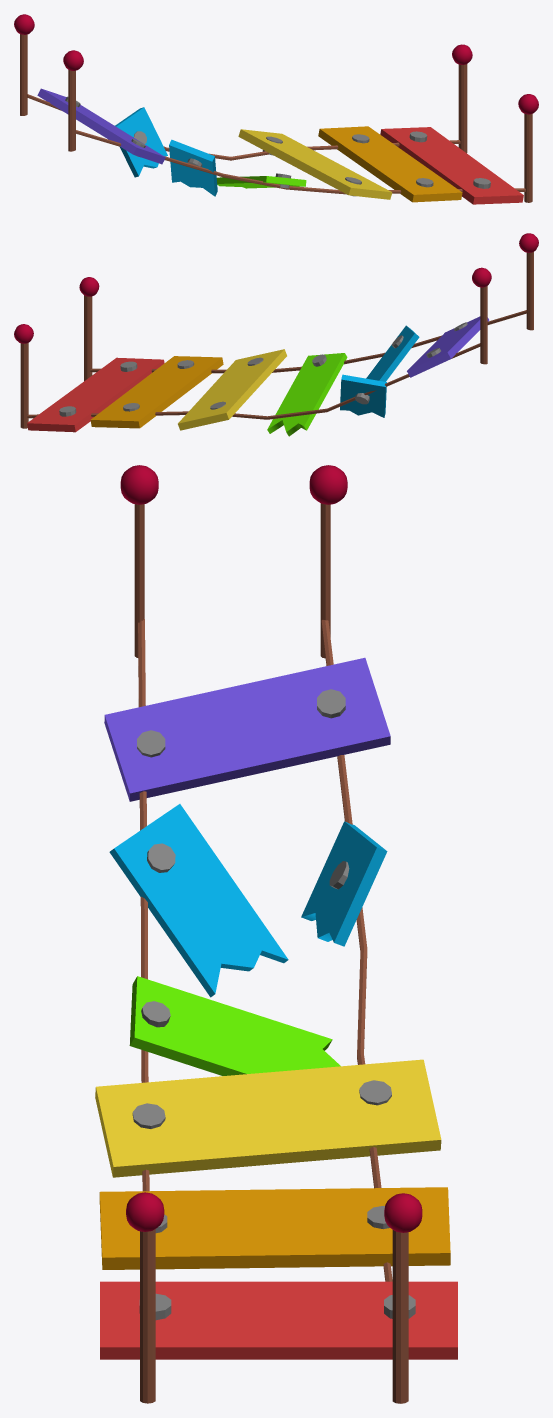
The model's file is BRUG.fbx.
3 renders of one model, top to bottom at view 1: azimuth 30°, elevation 25°; view 2: azimuth 150°, elevation 25°; view 3: azimuth 270°, elevation 25°, orthographic. The views are drawn at different scales.
Parts seen in each view (by area): view 1: pCube2, pCube1, pCube4 (×3), pCube3, pCylinder1, pCube5, pCylinder2, pCylinder13, pCylinder12, pSphere1, pSphere2, pSphere4 (+1 smaller); view 2: pCube4 (×3), pCube2, pCube1, pCube3, pCylinder2, pCube5, pCylinder1, pCylinder13, pCylinder12, pSphere2, pSphere4, pSphere1 (+1 smaller); view 3: pCube4 (×3), pCube3, pCube1, pCube2, pCube5, pCylinder2, pCylinder1, pCylinder13, pCylinder12, pSphere3, pSphere1, pSphere2 (+1 smaller).
Boxes of the visible parts, <box> form: pCube2: <box>318,126,462,202</box>; pCube1: <box>380,127,523,204</box>; pCube4 (×3): <box>115,107,306,196</box>; pCube3: <box>238,129,392,199</box>; pCylinder1: <box>76,113,532,202</box>; pCube5: <box>37,88,165,164</box>; pCylinder2: <box>27,64,467,160</box>; pCylinder13: <box>20,34,27,115</box>; pCylinder12: <box>68,70,75,151</box>; pSphere1: <box>518,94,538,114</box>; pSphere2: <box>452,44,472,64</box>; pSphere4: <box>14,14,34,34</box>; pCube4 (×3): <box>267,325,419,436</box>; pCube2: <box>90,356,223,428</box>; pCube1: <box>27,357,164,432</box>; pCube3: <box>178,349,286,430</box>; pCylinder2: <box>20,343,480,428</box>; pCube5: <box>407,316,489,377</box>; pCylinder1: <box>84,295,527,380</box>; pCylinder13: <box>480,286,487,364</box>; pCylinder12: <box>526,252,533,330</box>; pSphere2: <box>14,324,33,343</box>; pSphere4: <box>472,267,491,287</box>; pSphere1: <box>79,277,99,296</box>; pCube4 (×3): <box>109,804,387,1075</box>; pCube3: <box>95,1059,441,1177</box>; pCube1: <box>100,1281,457,1359</box>; pCube2: <box>99,1187,450,1269</box>; pCube5: <box>104,657,390,801</box>; pCylinder2: <box>321,620,408,1403</box>; pCylinder1: <box>138,619,155,1403</box>; pCylinder13: <box>320,503,330,658</box>; pCylinder12: <box>134,504,144,657</box>; pSphere3: <box>120,465,158,504</box>; pSphere1: <box>126,1192,164,1231</box>; pSphere2: <box>384,1193,422,1232</box>.
Size of the model in its own units: 0.182 by 0.0962 by 0.0626.
